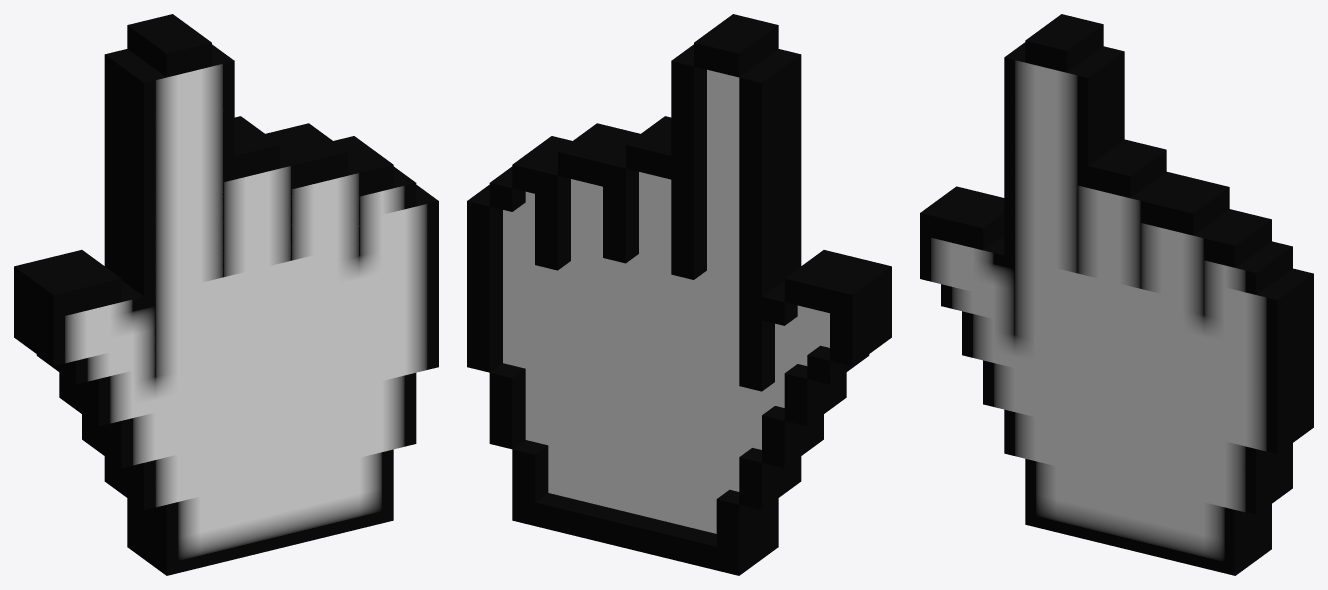
Rendered from one hand.dae.
The picture shows the model from 3 angles, left to right: view 1: azimuth 30°, elevation 25°; view 2: azimuth 150°, elevation 25°; view 3: azimuth 330°, elevation 25°; orthographic projection. The views are drawn at different scales.
Parts seen in each view (by area): view 1: cursor_win_hand; view 2: cursor_win_hand; view 3: cursor_win_hand.
Part boxes in pixels (<box>): cursor_win_hand: <box>14,14,438,575</box>; cursor_win_hand: <box>467,14,891,575</box>; cursor_win_hand: <box>920,14,1313,575</box>.
Bounding box in the file's own units: 1.7 × 0.3 × 2.2.
1 material, 1 textured.
